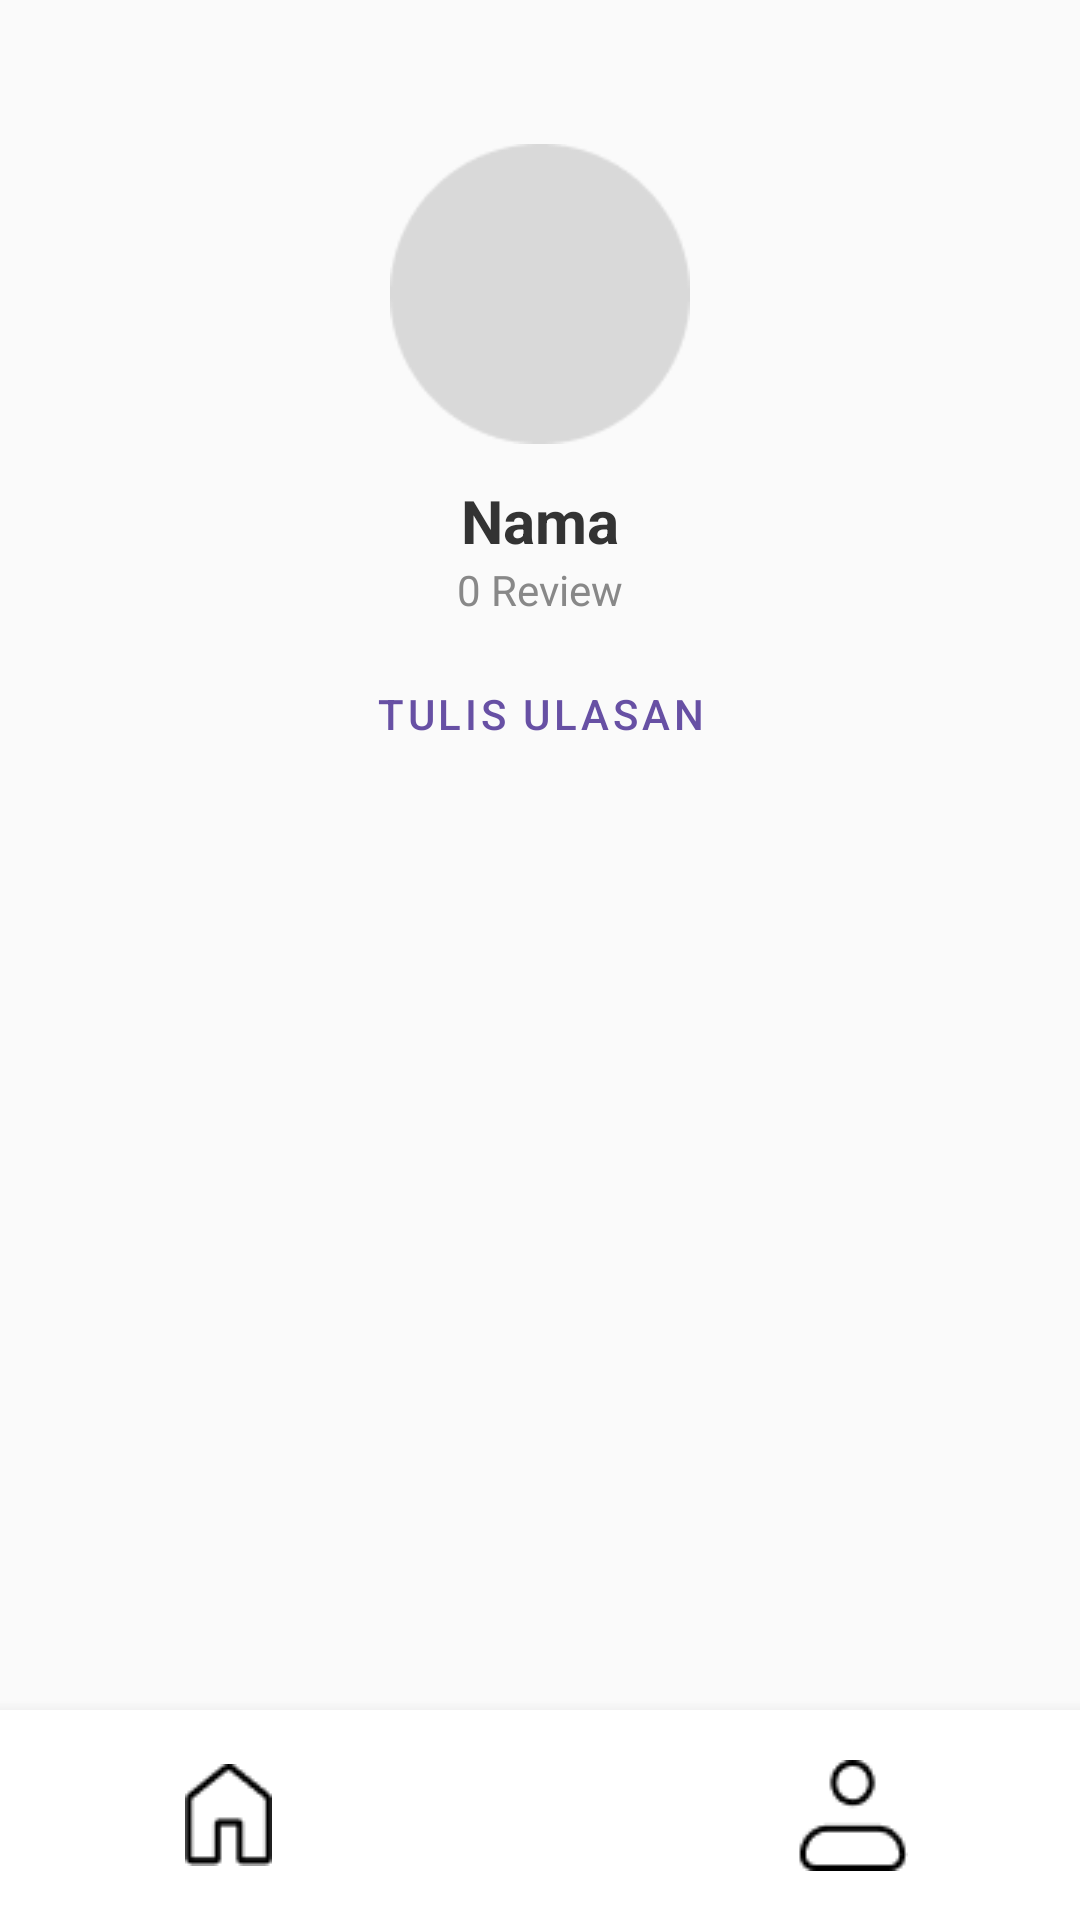

Icons on this 1080x1920 Android screen, each with its box as (x1, y1, x2, y2):
Home: (185, 1764, 272, 1866)
Profile: (799, 1760, 908, 1871)
